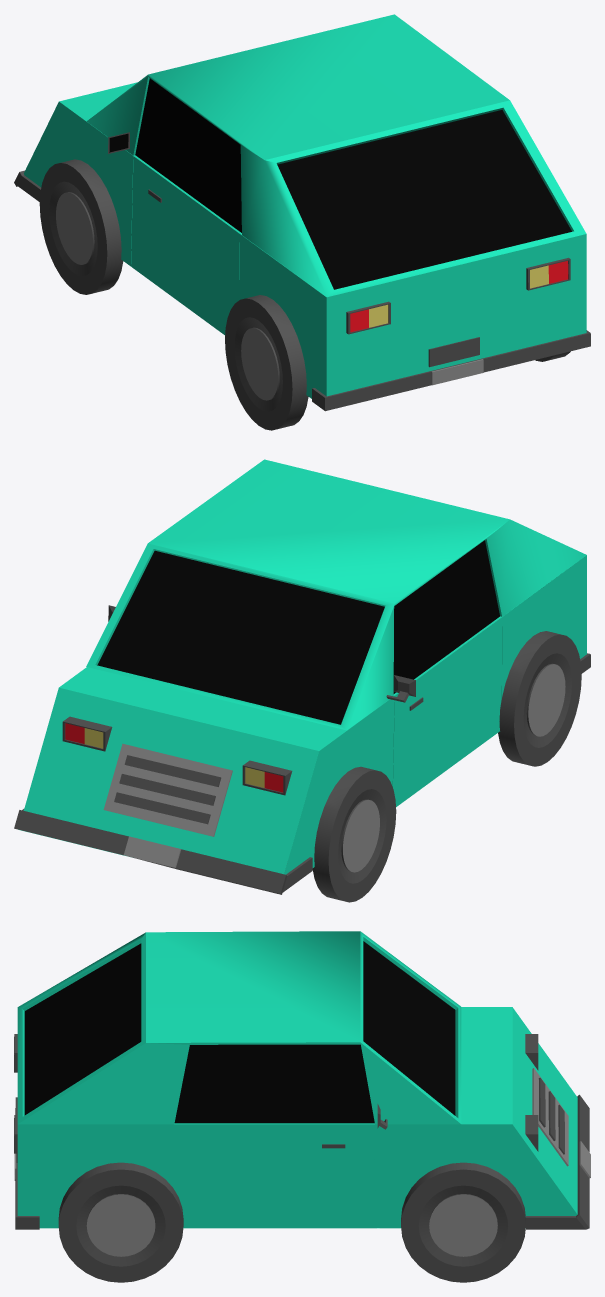
Rendered from Машинка.fbx.
The picture shows the model from 3 angles, top to bottom: view 1: azimuth 30°, elevation 25°; view 2: azimuth 150°, elevation 25°; view 3: azimuth 270°, elevation 25°; orthographic projection. The views are drawn at different scales.
Visible parts, largest first — view 1: Корпус, ПЛ, ЗЛ; view 2: Корпус, ЗЛ, ПЛ; view 3: Корпус, ЗП, ПП.
Boxes of the visible parts, x1=… form: Корпус: x1=14, y1=14, x2=590, y2=411; ПЛ: x1=39, y1=159, x2=123, y2=294; ЗЛ: x1=225, y1=295, x2=308, y2=430; Корпус: x1=14, y1=459, x2=590, y2=894; ЗЛ: x1=498, y1=631, x2=581, y2=766; ПЛ: x1=312, y1=766, x2=396, y2=902; Корпус: x1=14, y1=931, x2=590, y2=1229; ЗП: x1=58, y1=1162, x2=183, y2=1282; ПП: x1=401, y1=1162, x2=525, y2=1282.
Bounding box in the file's own units: 236 × 183 × 416.
